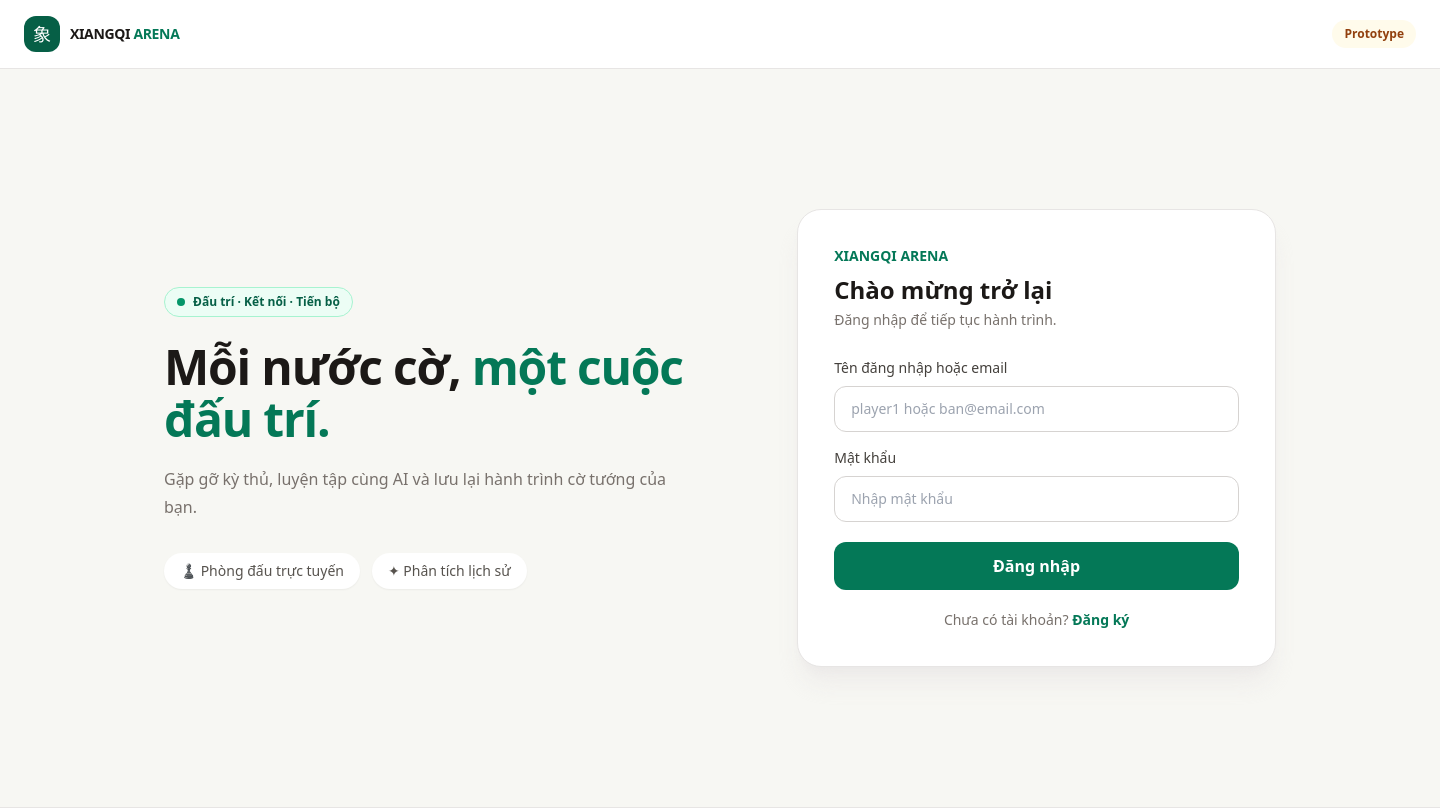
Test case: XQA-61 screen flow prototype › opens the Lịch sử screen
Type "player1" into the field labelled "Tên đăng nhập hoặc email" at {"x": 1037, "y": 409}, box top-left (834, 386), bottom-right (1239, 432)
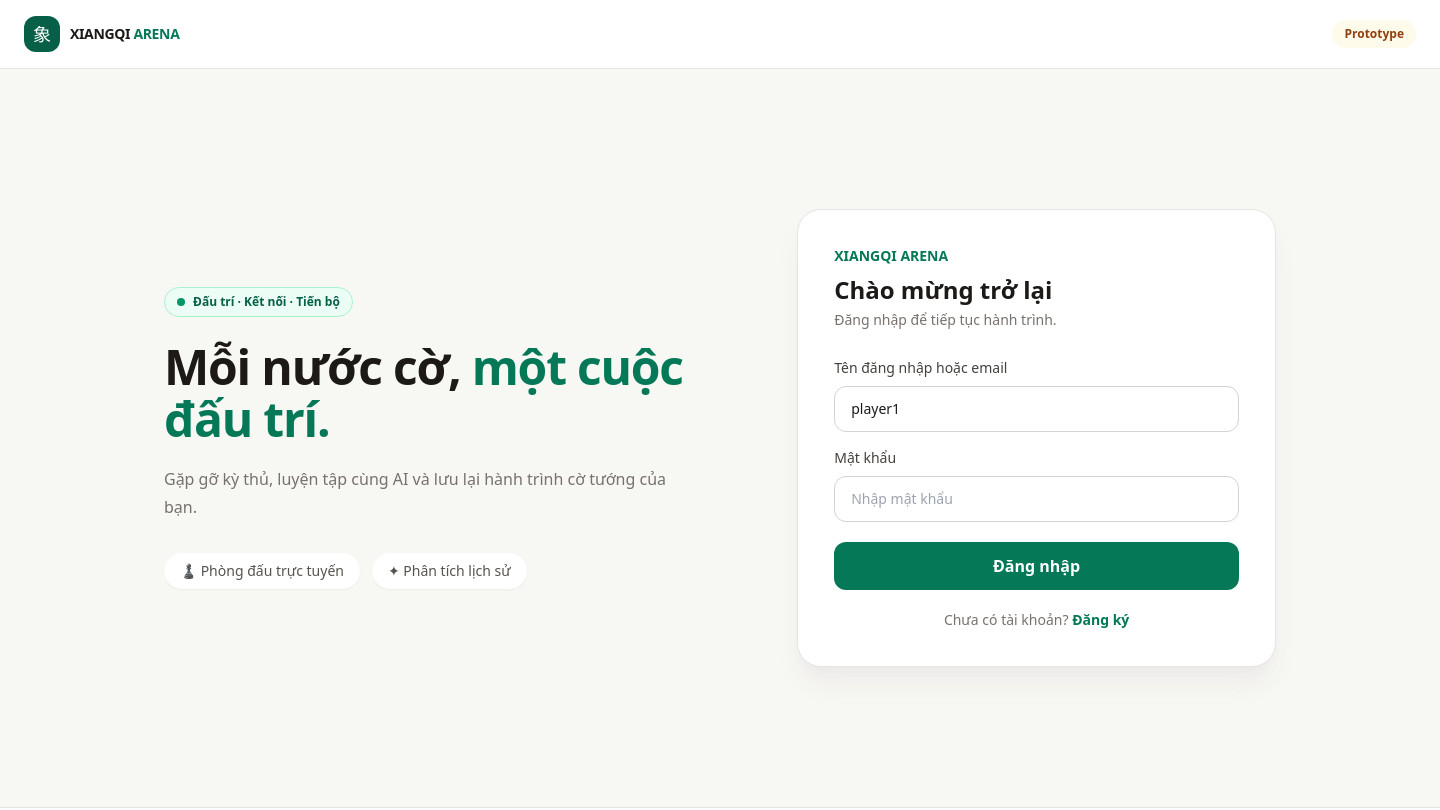
Type "demo-password" into the password field labelled "Mật khẩu" at {"x": 1037, "y": 499}, box top-left (834, 476), bottom-right (1239, 522)
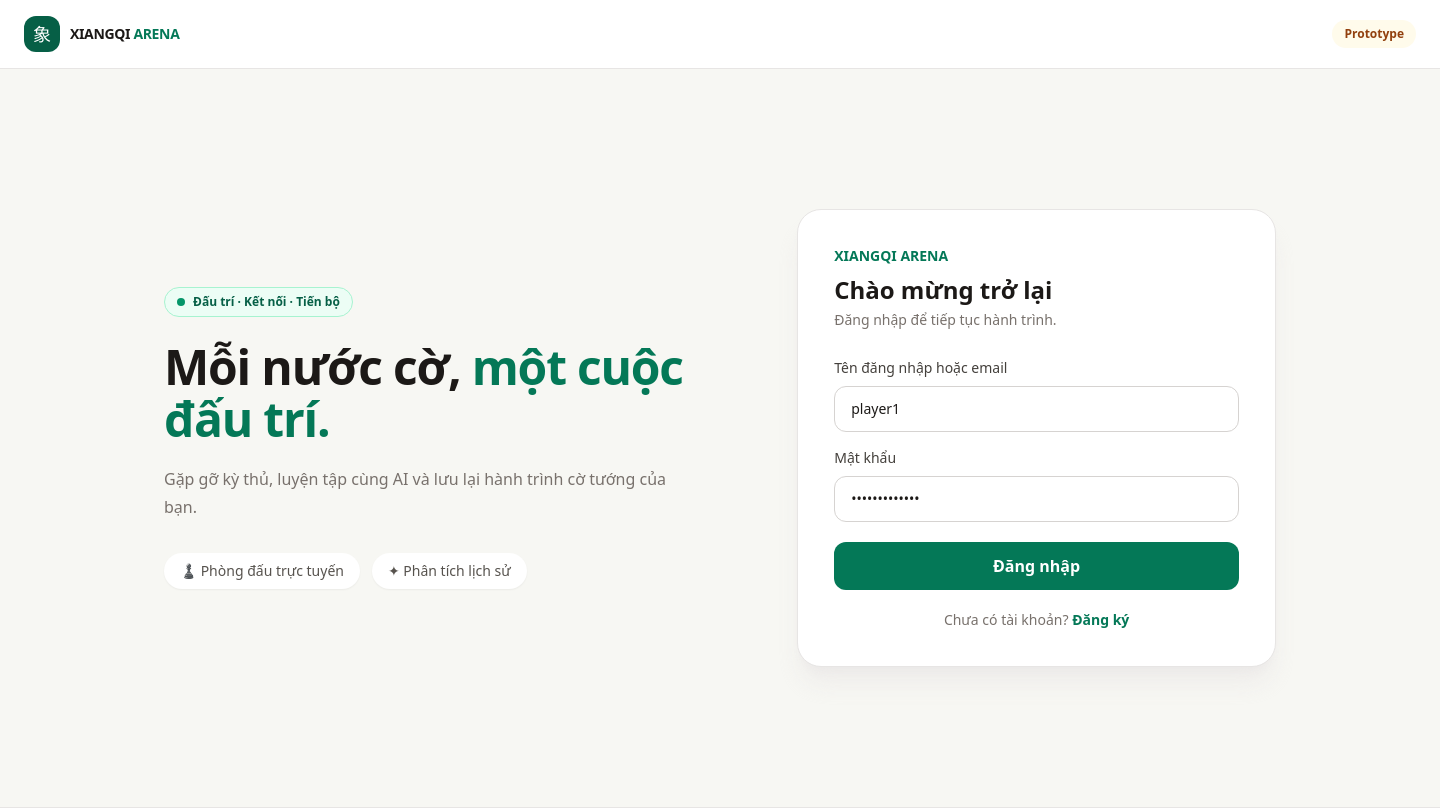
Click the button "Đăng nhập" at {"x": 1037, "y": 566}, box top-left (834, 542), bottom-right (1239, 590)
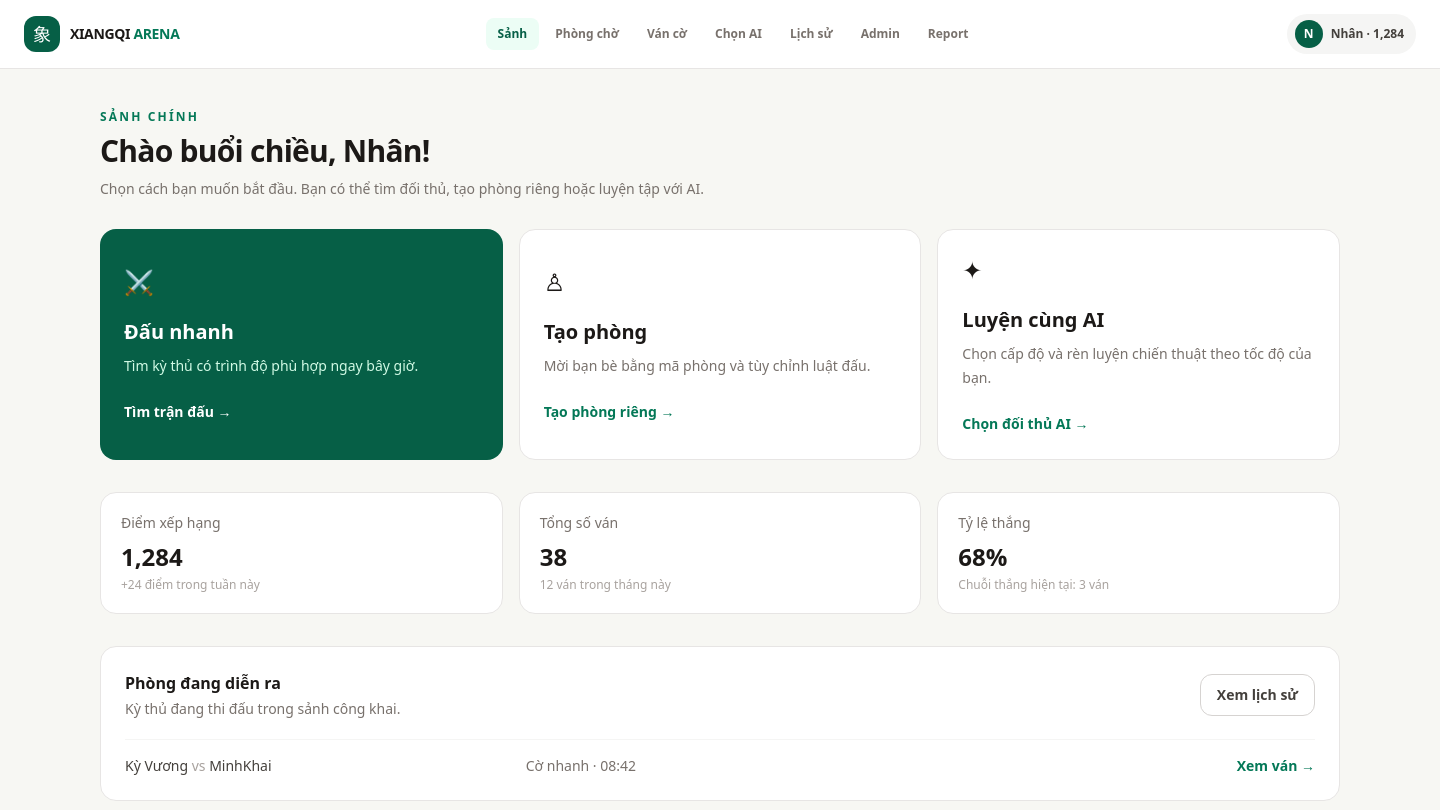
Click the button "Lịch sử" at {"x": 811, "y": 34}, box top-left (778, 18), bottom-right (845, 50)
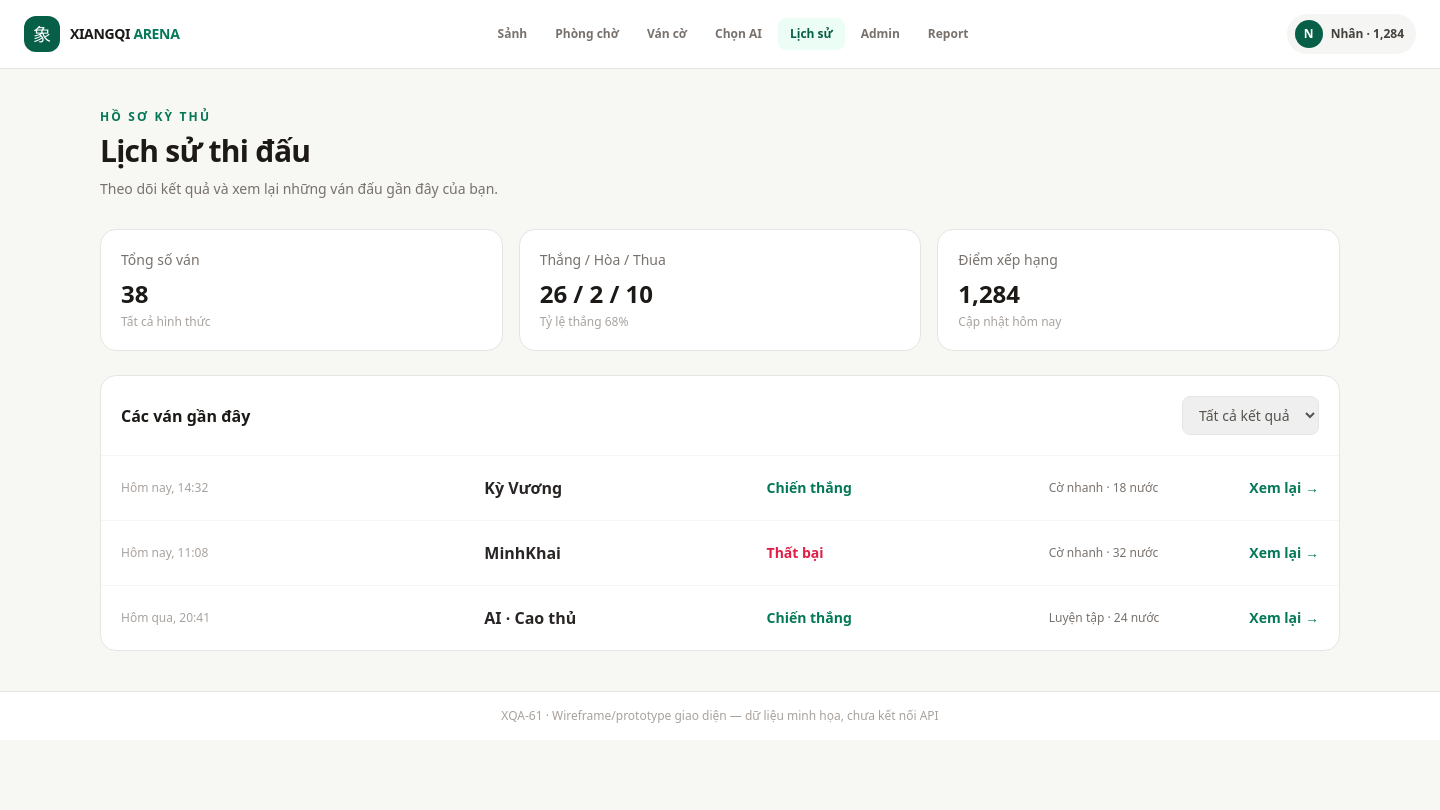
Expected: the heading "Lịch sử thi đấu" is shown, top-left (100, 130), bottom-right (310, 171)
